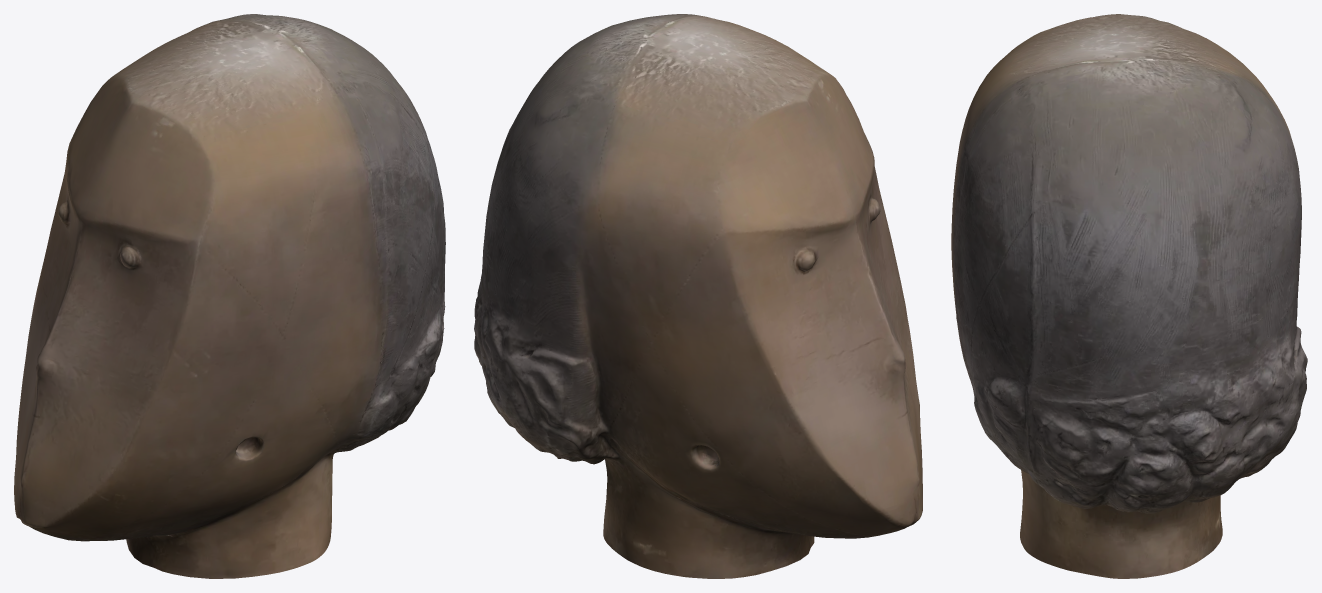
Rendered from shah-head-with-pinpoint-eyes.glb.
3 renders of one model, left to right at view 1: azimuth 30°, elevation 25°; view 2: azimuth 150°, elevation 25°; view 3: azimuth 270°, elevation 25°, orthographic. The views are drawn at different scales.
Parts seen in each view (by area): view 1: headB_low; view 2: headB_low; view 3: headB_low.
Boxes of the visible parts, x1,y1,x2,y2 form: headB_low: (14,14,445,578); headB_low: (474,14,922,578); headB_low: (951,14,1307,578).
Bounding box in the file's own units: 22.45 × 25.55 × 16.5.
1 material, 1 textured.
